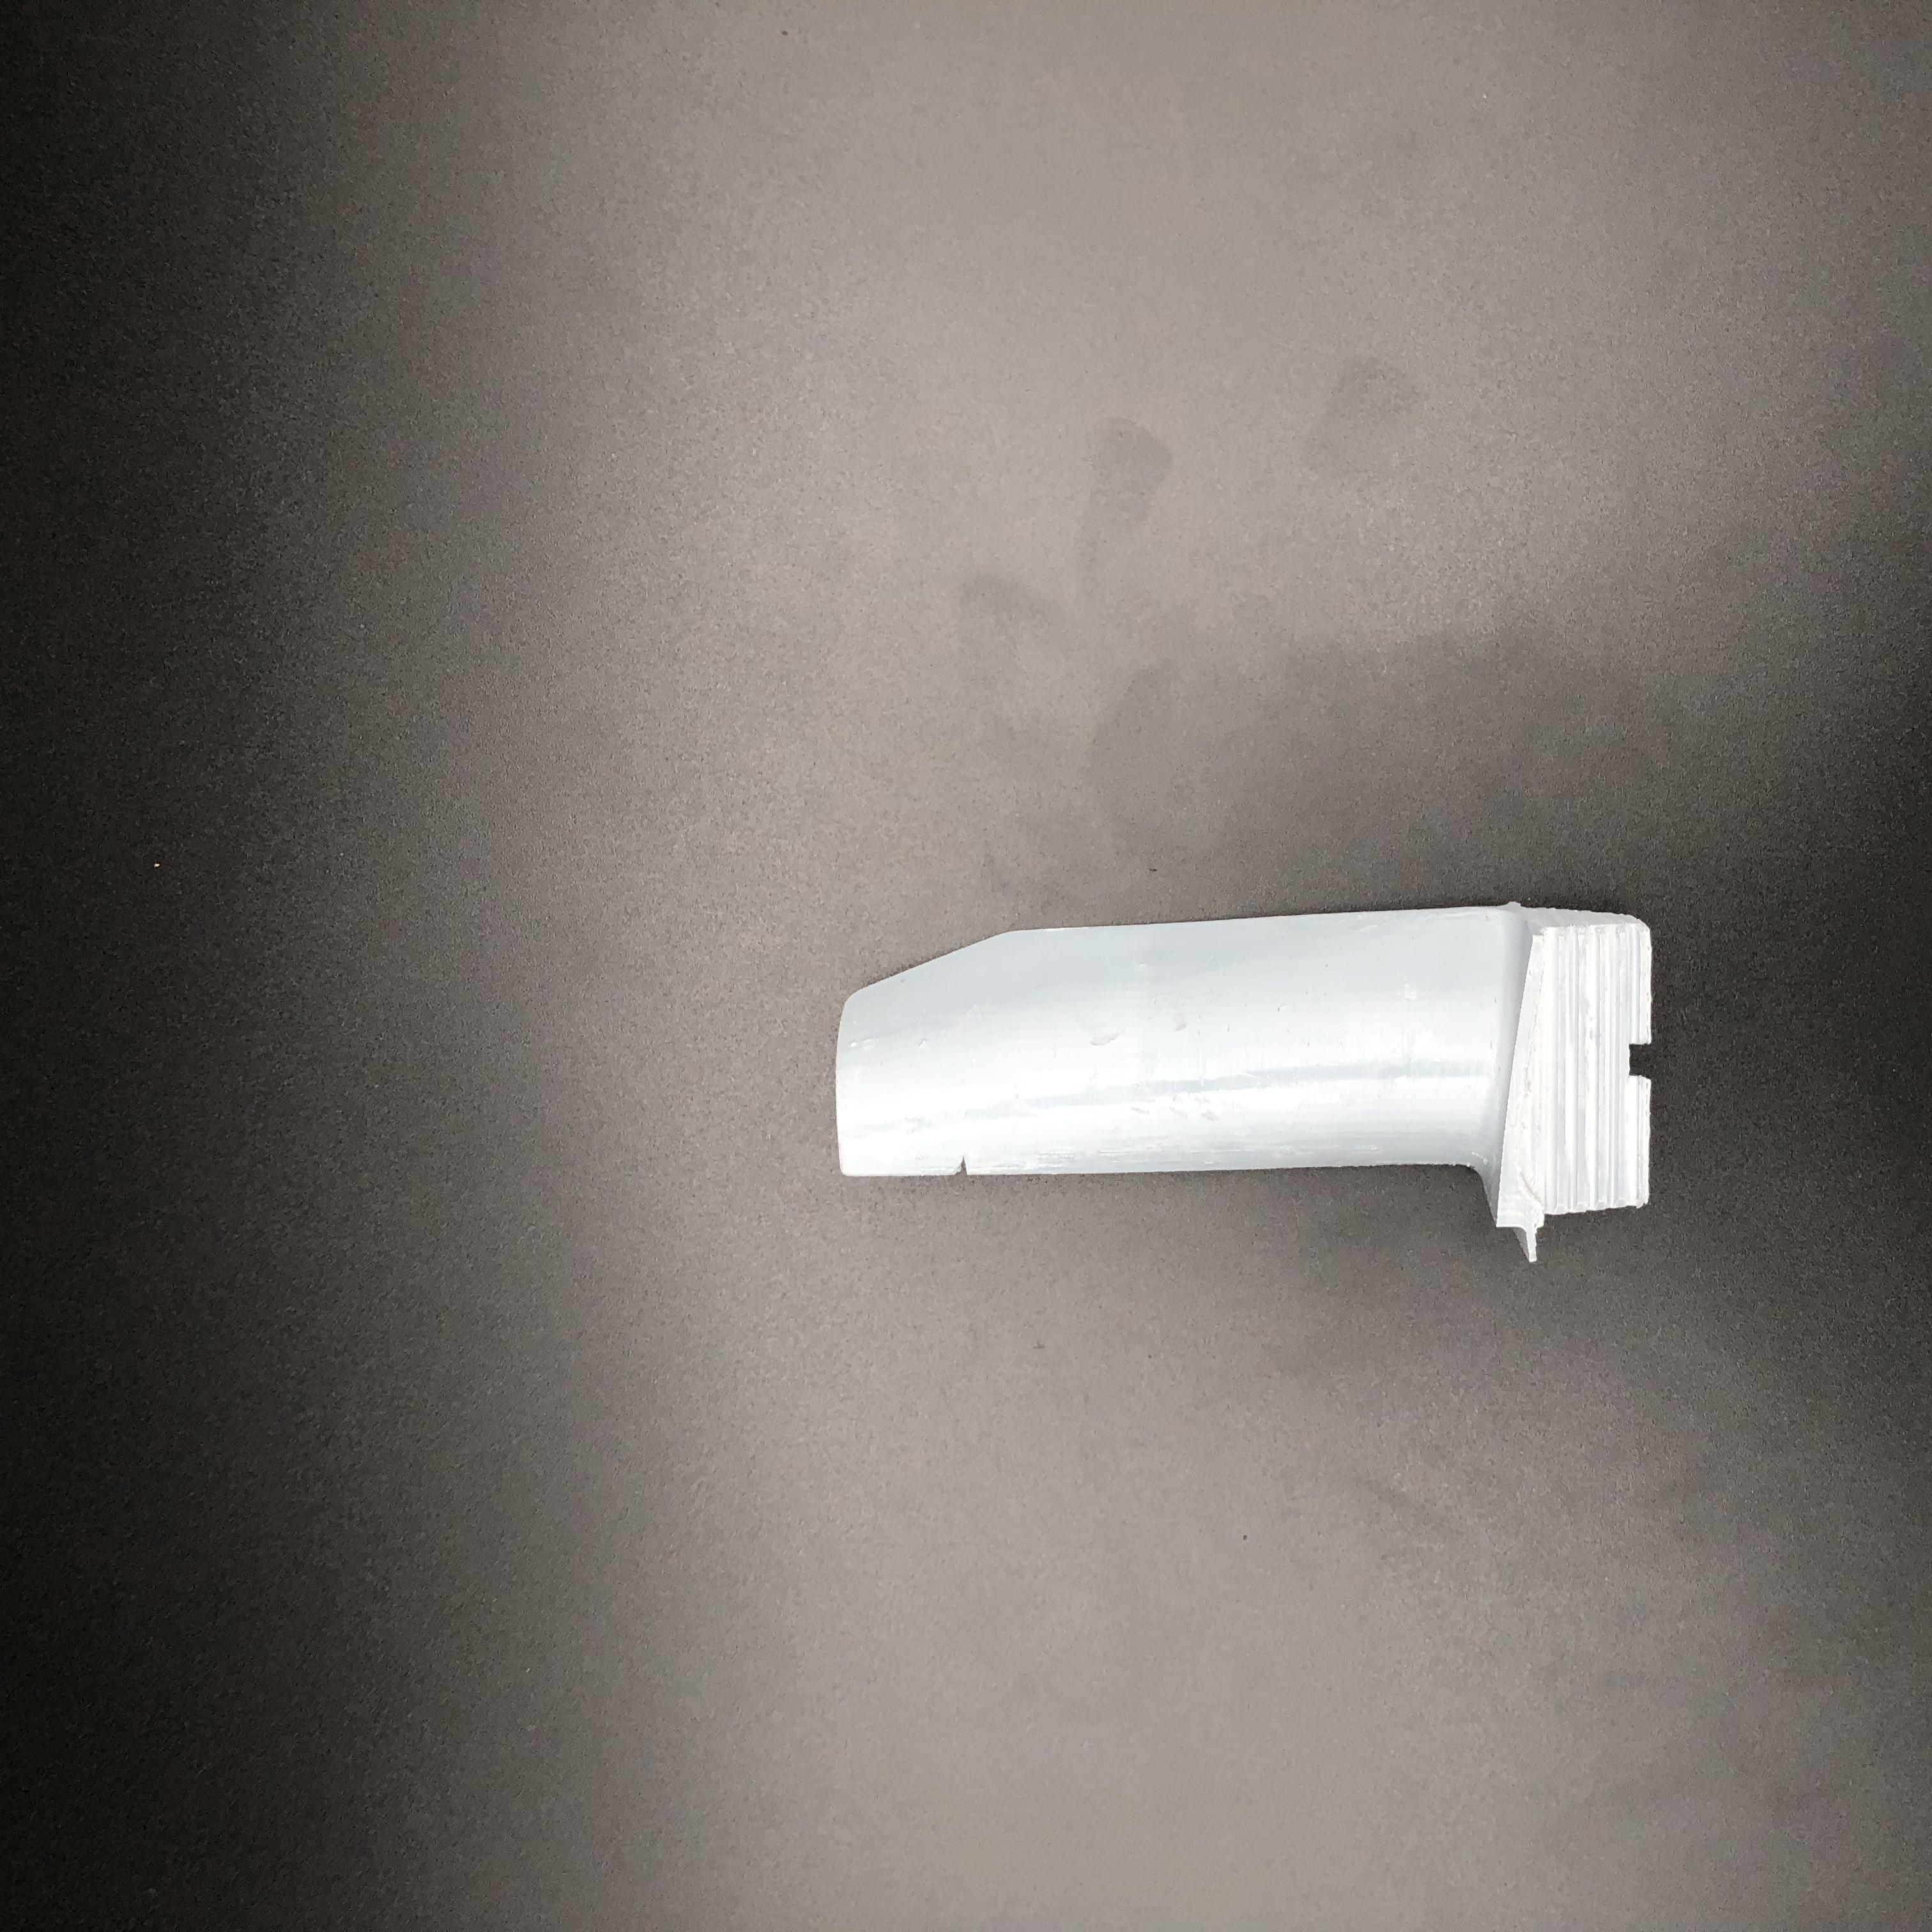groove: (943, 1157, 987, 1177)
